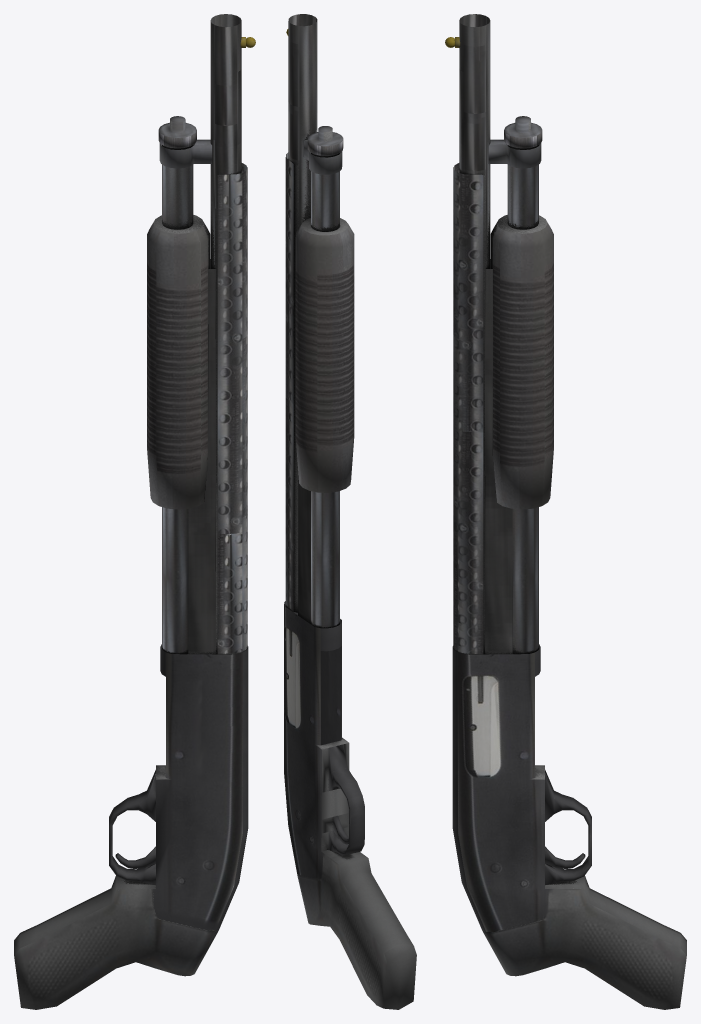
The model's file is shotgun.obj.
The picture shows the model from 3 angles, left to right: view 1: azimuth 90°, elevation 25°; view 2: azimuth 210°, elevation 25°; view 3: azimuth 270°, elevation 25°; orthographic projection. The views are drawn at different scales.
Parts seen in each view (by area): view 1: Mossberg_500_Cylinder.004; view 2: Mossberg_500_Cylinder.004; view 3: Mossberg_500_Cylinder.004.
Boxes of the visible parts, x1,y1,x2,y2 form: Mossberg_500_Cylinder.004: (14, 14, 255, 1009); Mossberg_500_Cylinder.004: (284, 14, 416, 1009); Mossberg_500_Cylinder.004: (445, 14, 686, 1009).
Bounding box in the file's own units: 0.1228 × 2.11 × 0.4684.
